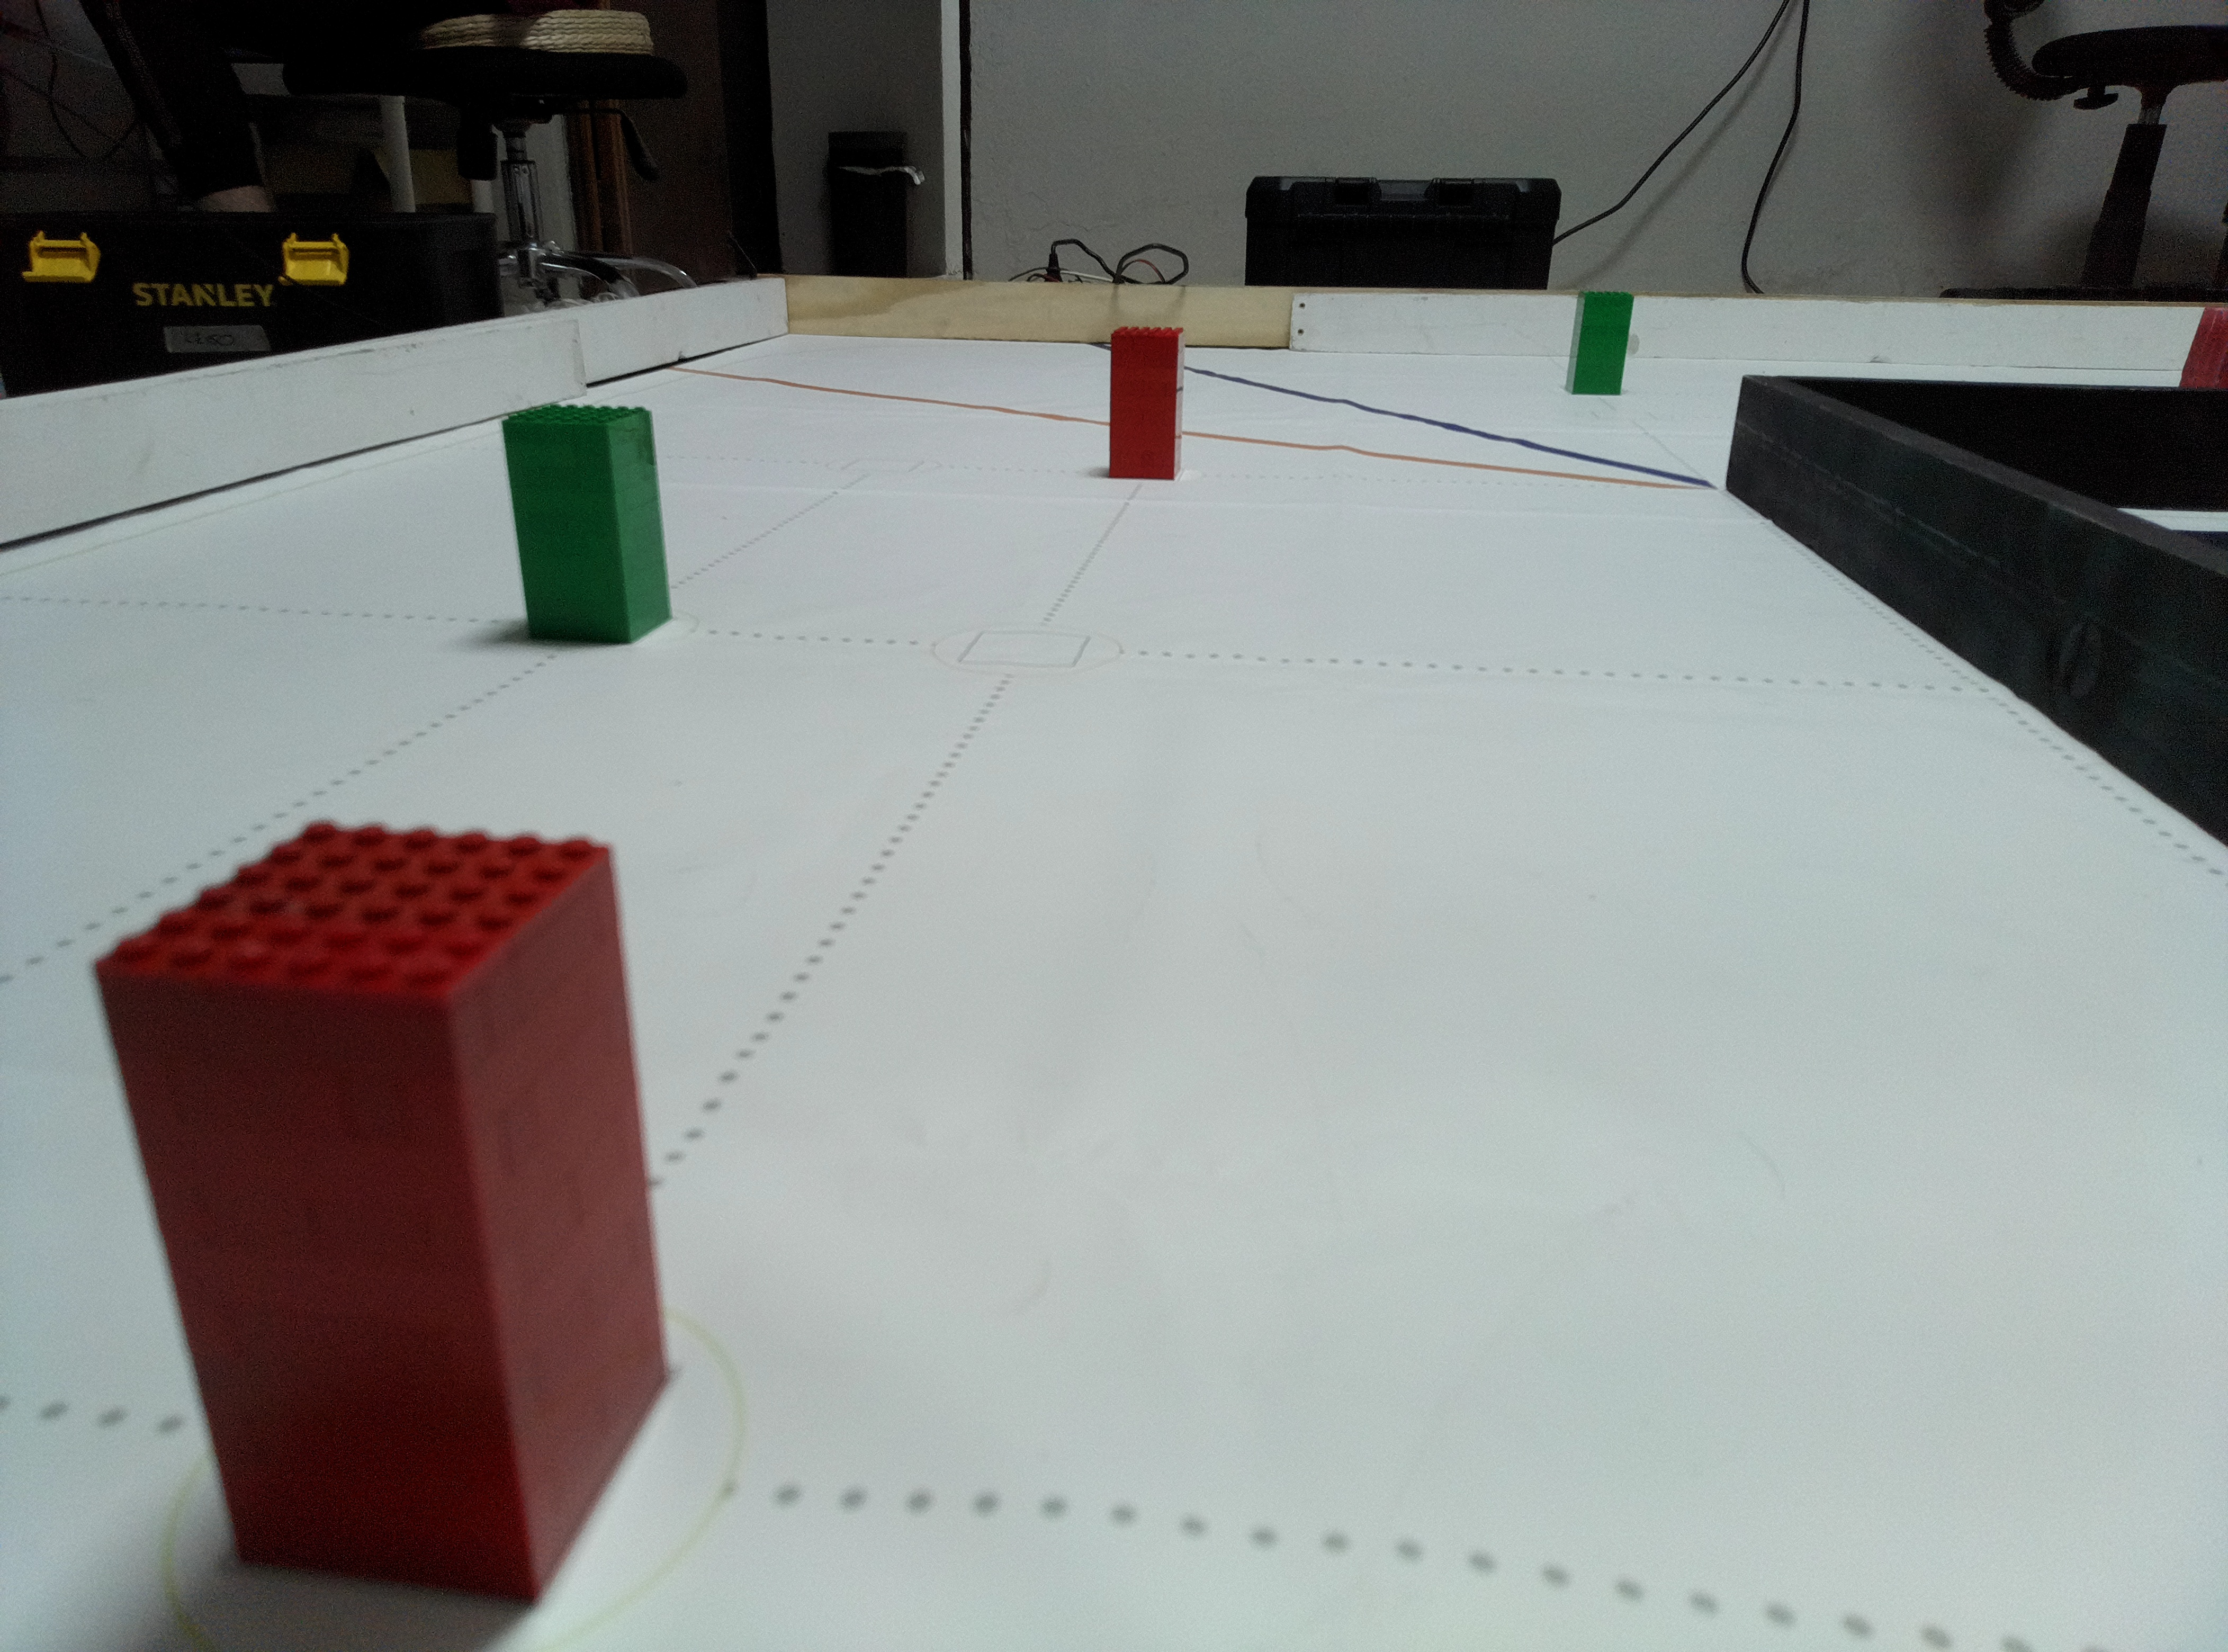greenbox: (500, 404, 675, 647), (1563, 288, 1636, 397)
redbox: (87, 817, 682, 1616), (1105, 326, 1185, 481), (2178, 309, 2228, 389)
